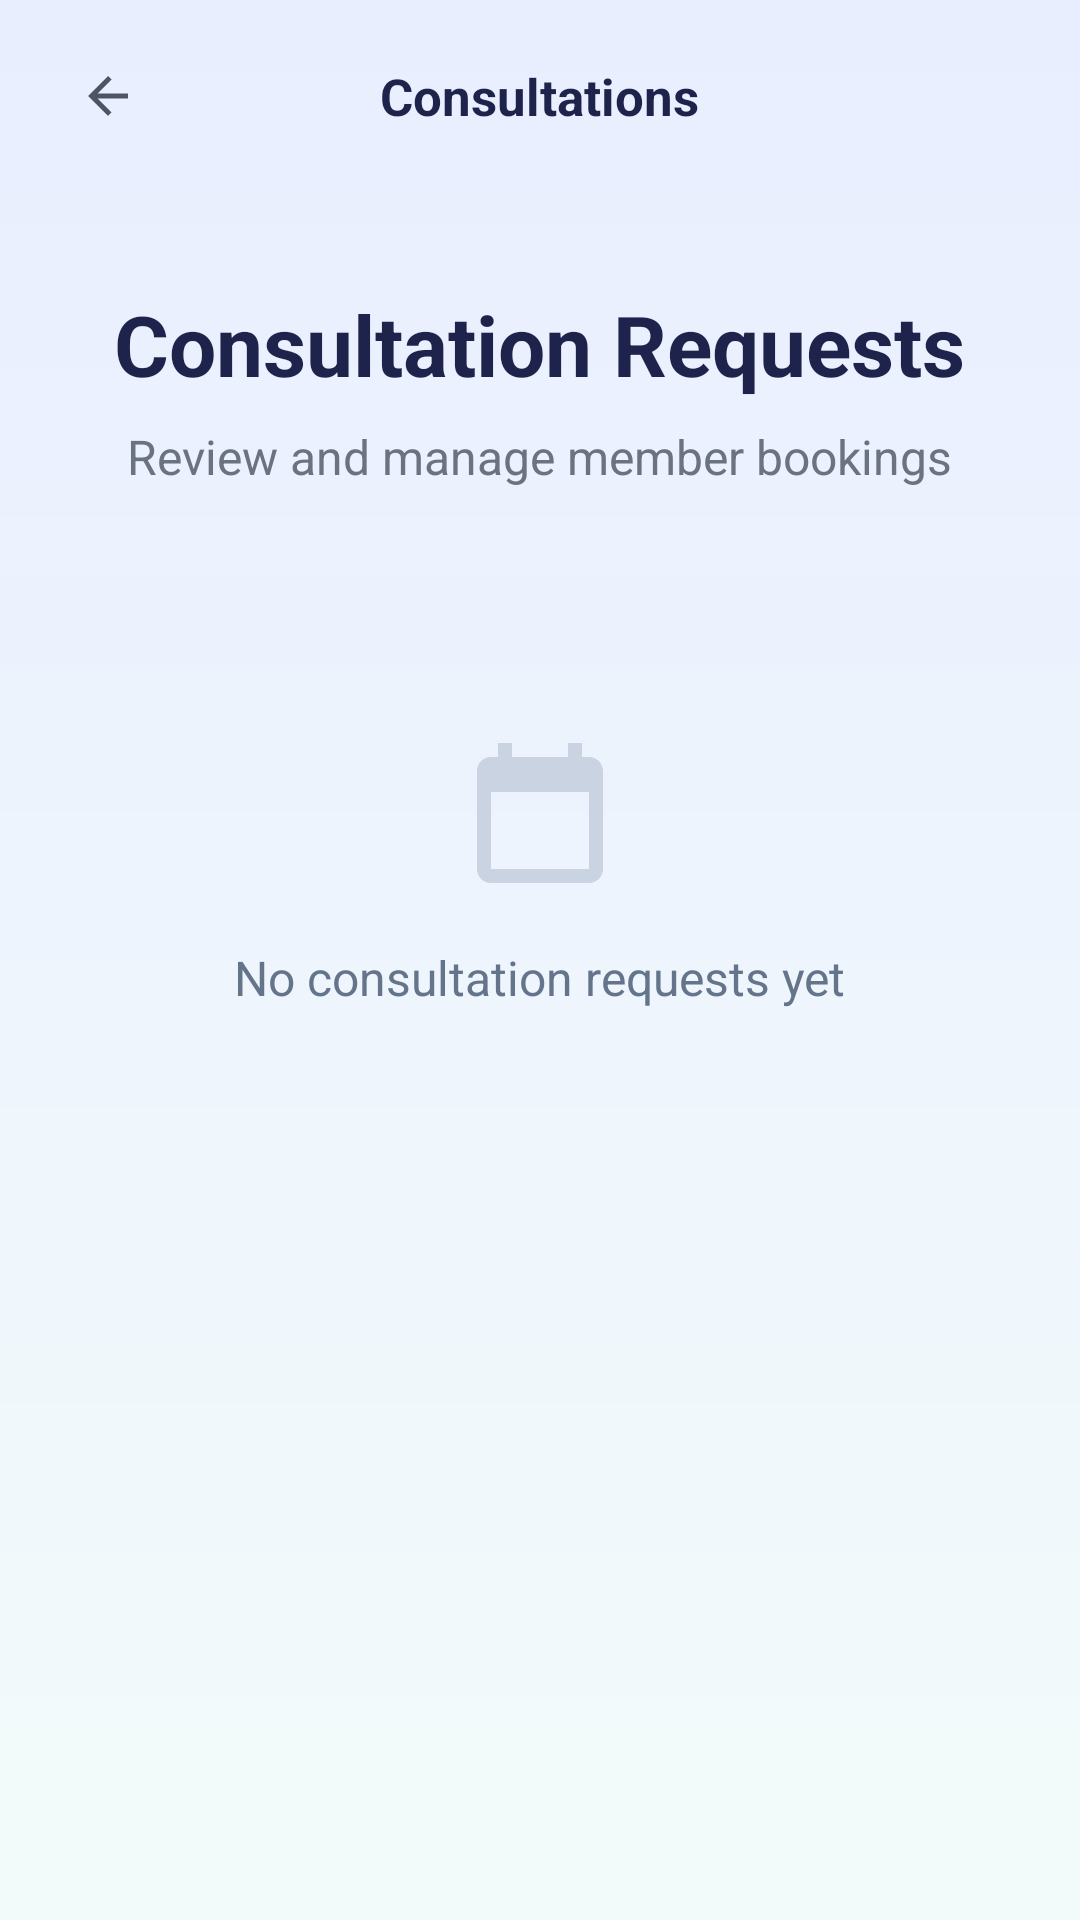

Where to tap for icons on this 1080 × 1920 app screen, as (x=x, y=y):
Back: (x=108, y=96)
calendar: (x=540, y=813)
